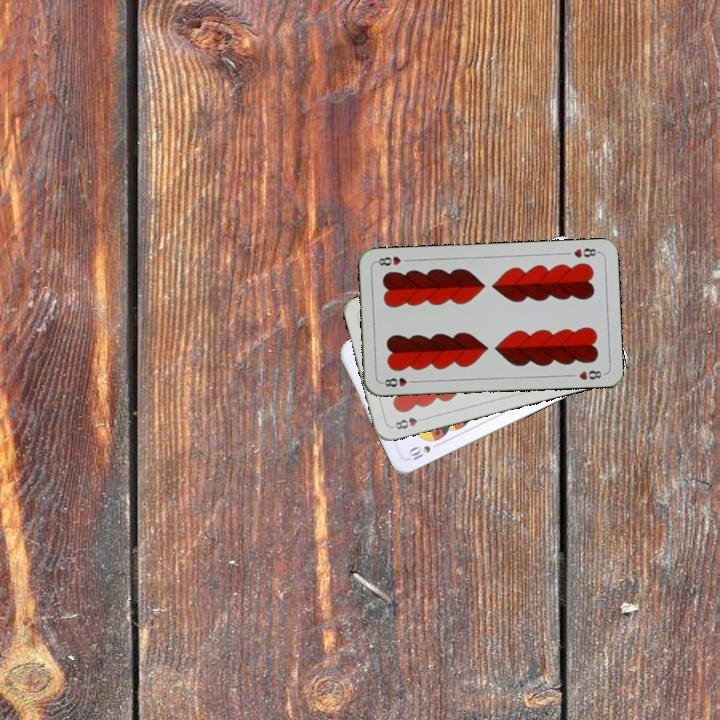H8: (389, 413, 428, 432), (378, 374, 418, 390), (570, 244, 602, 260)
S10: (405, 439, 443, 463)
